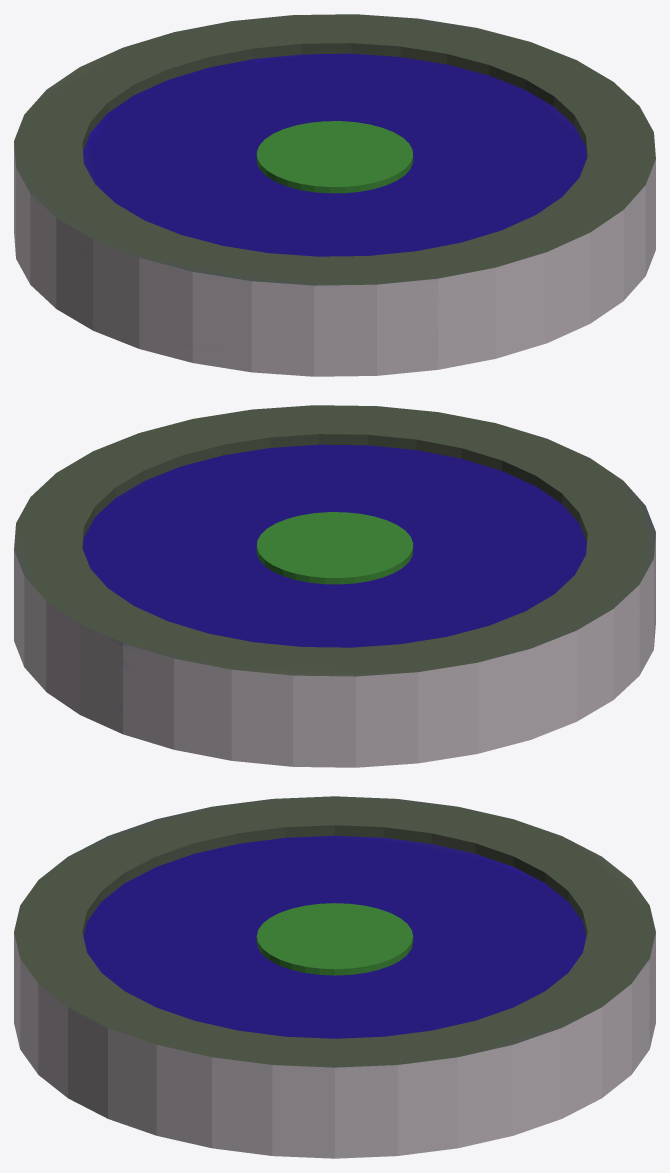
File: charca.fbx
3 views of the same model, one above another, from view 1: azimuth 30°, elevation 25°; view 2: azimuth 150°, elevation 25°; view 3: azimuth 270°, elevation 25° (orthographic).
Parts seen in each view (by area): view 1: Cylinder; view 2: Cylinder; view 3: Cylinder.
Part boxes in pixels (box(x1,y1,x2,y2)): Cylinder: box(14, 14, 655, 376); Cylinder: box(14, 405, 655, 767); Cylinder: box(14, 796, 655, 1158).
Size of the model in its own units: 200 by 31.3 by 200.
